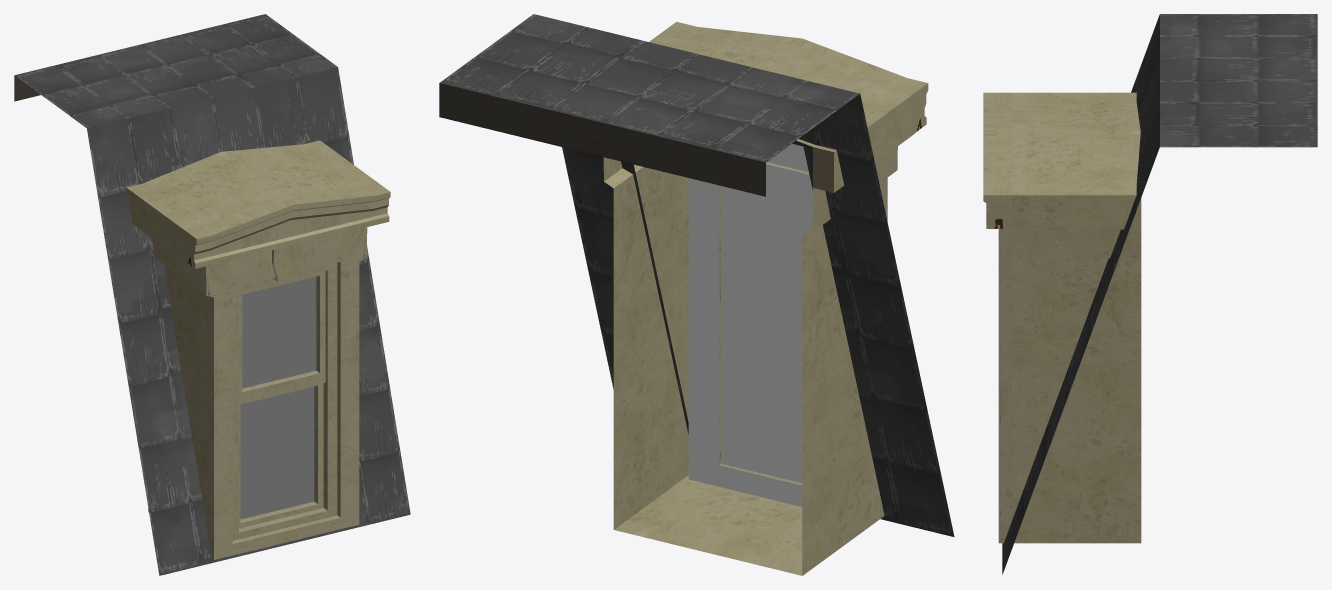
Rendered from Roof_Slate_Window_1.gltf.
3 renders of one model, left to right at view 1: azimuth 30°, elevation 25°; view 2: azimuth 150°, elevation 25°; view 3: azimuth 270°, elevation 25°, orthographic. The views are drawn at different scales.
Parts seen in each view (by area): view 1: Roof_Slate_Window_1; view 2: Roof_Slate_Window_1; view 3: Roof_Slate_Window_1.
Part boxes in pixels (bbox=[...]): Roof_Slate_Window_1: bbox=[14, 14, 410, 575]; Roof_Slate_Window_1: bbox=[439, 14, 954, 575]; Roof_Slate_Window_1: bbox=[983, 14, 1317, 574].
Bounding box in the file's own units: 2 × 3 × 2.12.
Materials: 5 (3 with a texture image).
